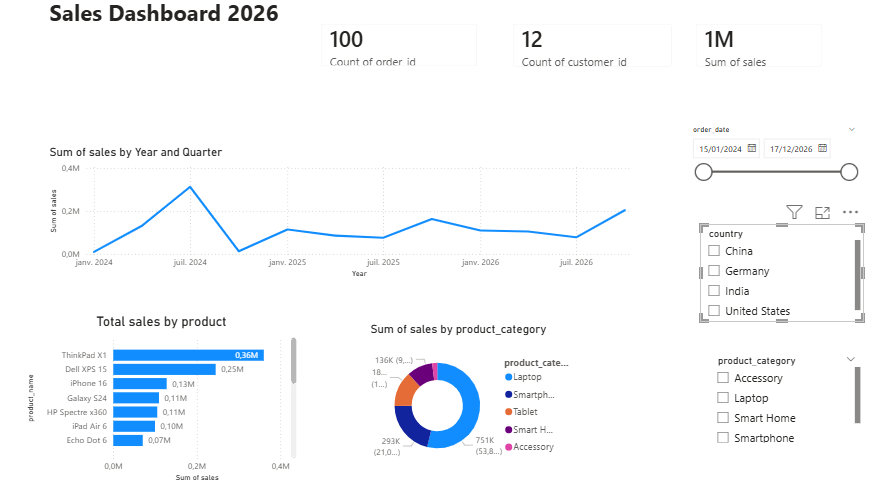

What the dashboard file says about the page in this screenshot:
{"tool":"powerbi","page":{"name":"Page 1","canvas":[1280,720],"ordinal":0},"visuals":[{"type":"barChart","title":"Total sales by product","fields":{"Category":["orders.product_name"],"Y":["Sum(orders.sales)"]},"box":[49,460.8,398.9,247.7],"z":0},{"type":"donutChart","fields":{"Y":["Sum(orders.sales)"],"Category":["orders.product_category"]},"box":[544.3,473.8,299.5,221.8],"z":1000},{"type":"cardVisual","fields":{"Data":["CountNonNull(orders.order_id)"]},"box":[460.8,27.4,259.2,95],"z":2000},{"type":"cardVisual","fields":{"Data":["Count(orders.customer_id)"]},"box":[737.3,27.4,263.5,96.5],"z":3000},{"type":"cardVisual","fields":{"Data":["Sum(orders.sales)"]},"box":[1000.8,27.4,216,96.5],"z":4000},{"type":"lineChart","fields":{"Category":["orders.order_date.Variation.Date Hierarchy.Year"],"Y":["Sum(orders.sales)"]},"box":[61.9,221.8,862.6,195.8],"z":5000},{"type":"slicer","fields":{"Values":["customers.country"]},"box":[1023.8,332.6,236.2,141.1],"z":6000},{"type":"slicer","fields":{"Values":["orders.product_category"]},"box":[1036.8,515.5,223.2,136.8],"z":7000},{"type":"slicer","fields":{"Values":["orders.order_date"]},"box":[1000.8,198.7,259.2,99.4],"z":8000},{"type":"textbox","box":[82.1,0,349.9,123.8],"z":9000}]}

Visuals, with their boxes in screenshot pixels (x1, y1, x2, y2), scaled from the page's 1280x720 canvas onto the 873x492 screenshot:
"Total sales by product" barChart: bbox=[33, 315, 305, 484]
donutChart - Sum(orders.sales) x orders.product_category: bbox=[371, 324, 575, 475]
cardVisual - CountNonNull(orders.order_id): bbox=[314, 19, 491, 84]
cardVisual - Count(orders.customer_id): bbox=[503, 19, 683, 85]
cardVisual - Sum(orders.sales): bbox=[683, 19, 830, 85]
lineChart - orders.order_date.Variation.Date Hierarchy.Year x Sum(orders.sales): bbox=[42, 152, 631, 285]
slicer - customers.country: bbox=[698, 227, 859, 324]
slicer - orders.product_category: bbox=[707, 352, 859, 446]
slicer - orders.order_date: bbox=[683, 136, 859, 204]
textbox: bbox=[56, 0, 295, 85]
